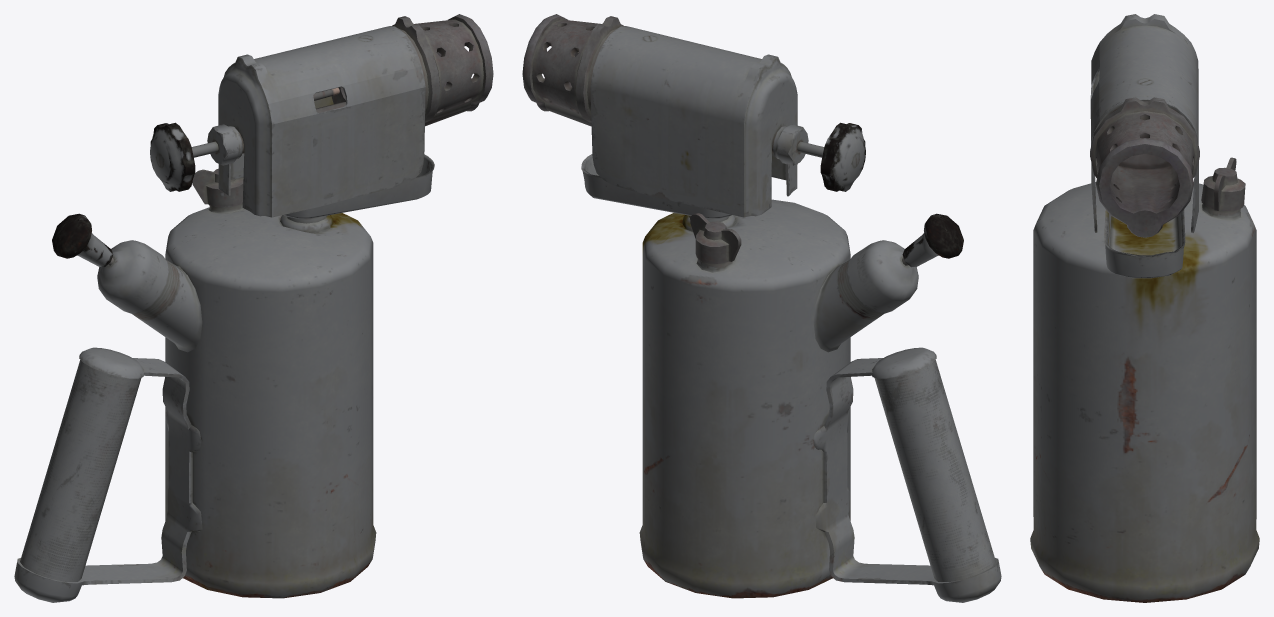
File: Blowtorch.FBX
The picture shows the model from 3 angles, left to right: view 1: azimuth 30°, elevation 25°; view 2: azimuth 150°, elevation 25°; view 3: azimuth 270°, elevation 25°; orthographic projection. The views are drawn at different scales.
Visible parts, largest first — view 1: Blowtorch; view 2: Blowtorch; view 3: Blowtorch.
Part boxes in pixels (bbox=[...]): Blowtorch: bbox=[14, 14, 493, 602]; Blowtorch: bbox=[522, 14, 1001, 602]; Blowtorch: bbox=[1030, 14, 1259, 602].
Bounding box in the file's own units: 29.82 × 12.29 × 31.45.
